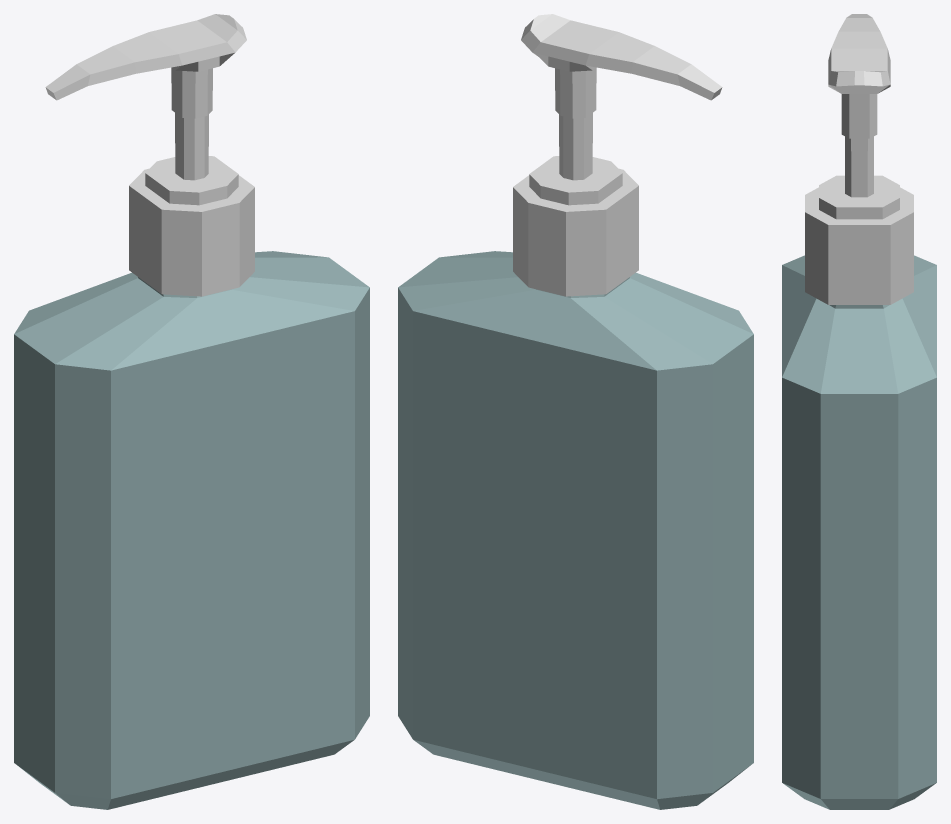
Rendered from SM_HandSanitizer.fbx.
3 views of the same model, side by side, from view 1: azimuth 30°, elevation 25°; view 2: azimuth 150°, elevation 25°; view 3: azimuth 270°, elevation 25° (orthographic). The views are drawn at different scales.
Visible parts, largest first — view 1: HandSanitizer; view 2: HandSanitizer; view 3: HandSanitizer.
Part boxes in pixels (x1=…): HandSanitizer: x1=14, y1=14, x2=369, y2=809; HandSanitizer: x1=398, y1=14, x2=753, y2=809; HandSanitizer: x1=782, y1=14, x2=936, y2=809.
Size of the model in its own units: 15.51 by 34.56 by 6.99.
